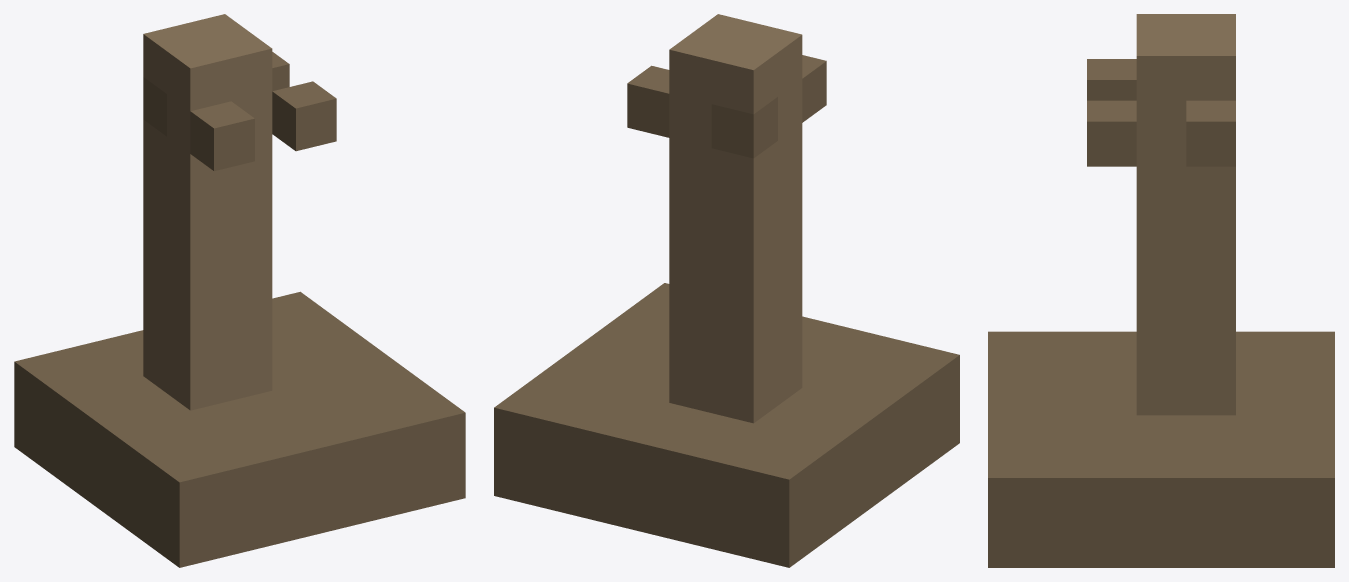
Rendered from perchero_desgastada_01.glb.
The picture shows the model from 3 angles, left to right: view 1: azimuth 30°, elevation 25°; view 2: azimuth 150°, elevation 25°; view 3: azimuth 270°, elevation 25°; orthographic projection. The views are drawn at different scales.
Visible parts, largest first — view 1: perchero_desgastada; view 2: perchero_desgastada; view 3: perchero_desgastada.
Boxes of the visible parts, box(x1,y1,x2,y2) form: perchero_desgastada: box(14, 14, 465, 567); perchero_desgastada: box(494, 14, 959, 567); perchero_desgastada: box(988, 14, 1334, 567).
Size of the model in its own units: 0.5 by 0.7143 by 0.5.
